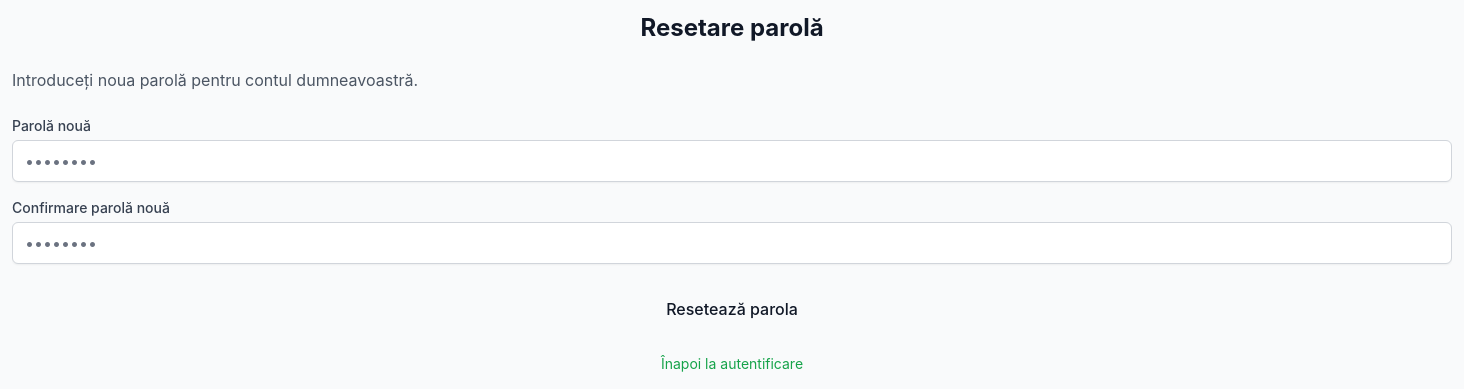
ResetPasswordPage › resets password successfully
The image size is (1464, 389).
Expected: the heading "Resetare parolă" is shown, [640,13,824,42]
// Fill in password fields
In the password field labelled "Parolă nouă": (732, 161) [12,140,1452,182], type "NewPassword123!"
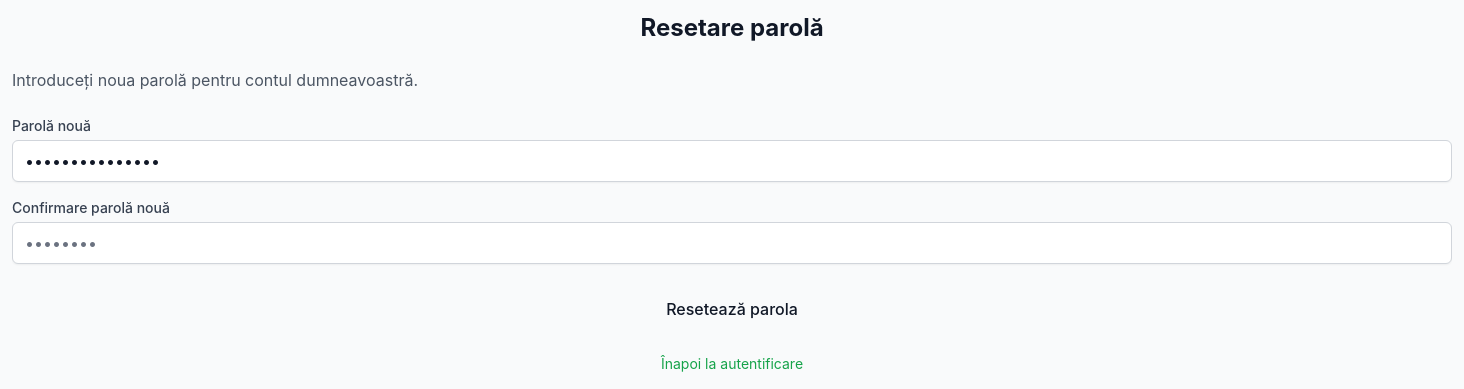
In the password field labelled "Confirmare parolă nouă": (732, 243) [12,222,1452,264], type "NewPassword123!"
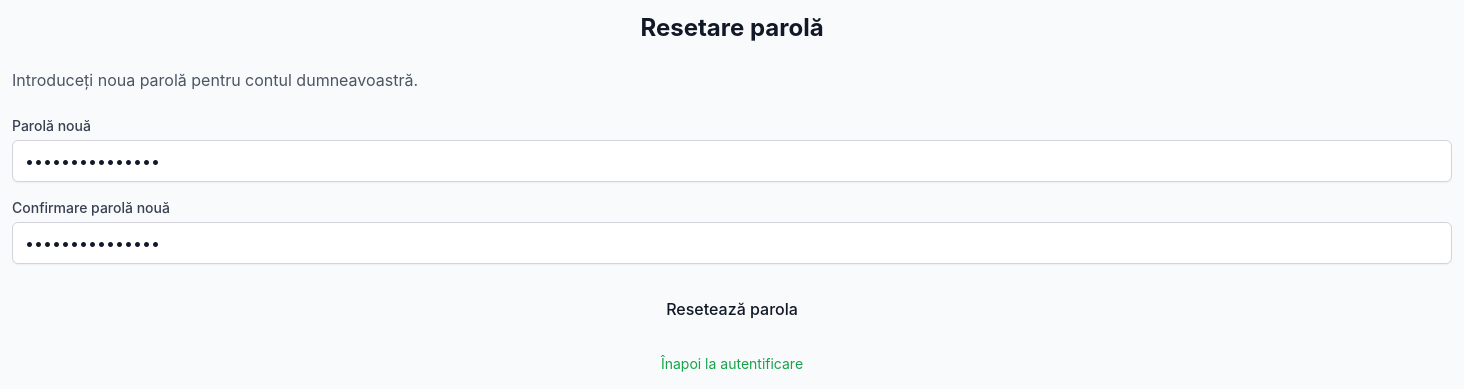
// Submit form
Submit the form, box [12,116,1452,330]
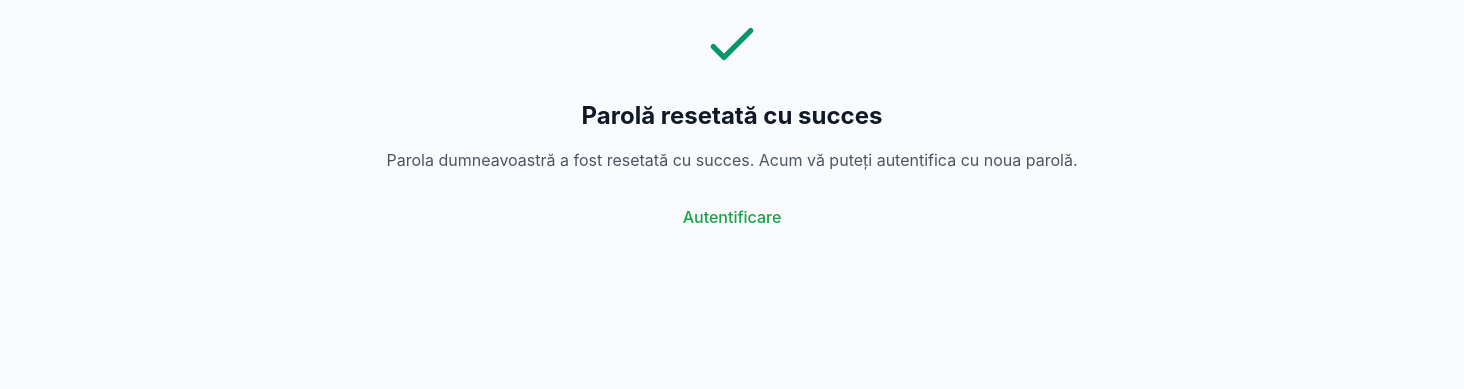
Expected: the heading "Parolă resetată cu succes" is shown, [582,101,882,130]
Expected: the button "Autentificare" is shown, [12,196,1452,238]
